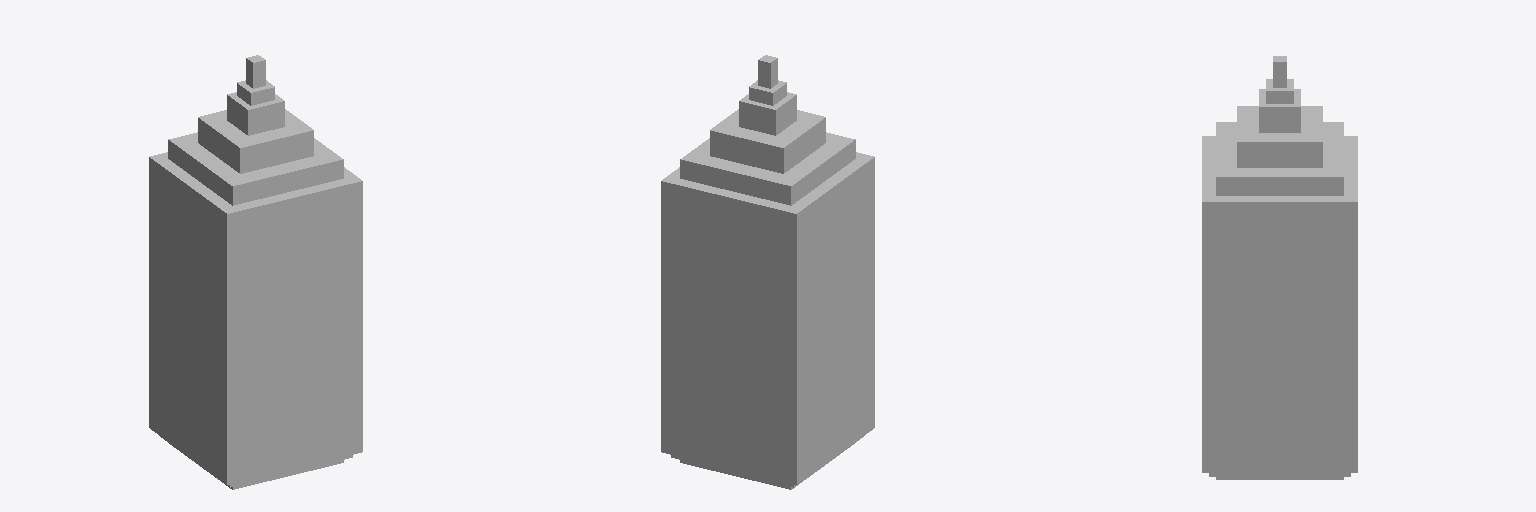
The model's file is Ketchup.obj.
3 views of the same model, side by side, from view 1: azimuth 30°, elevation 25°; view 2: azimuth 150°, elevation 25°; view 3: azimuth 270°, elevation 25° (orthographic).
Visible parts, largest first — view 1: Ketchup; view 2: Ketchup; view 3: Ketchup.
Boxes of the visible parts, x1=… form: Ketchup: x1=149, y1=55, x2=362, y2=489; Ketchup: x1=661, y1=55, x2=874, y2=489; Ketchup: x1=1202, y1=56, x2=1357, y2=479.
Bounding box in the file's own units: 22 × 61 × 22.